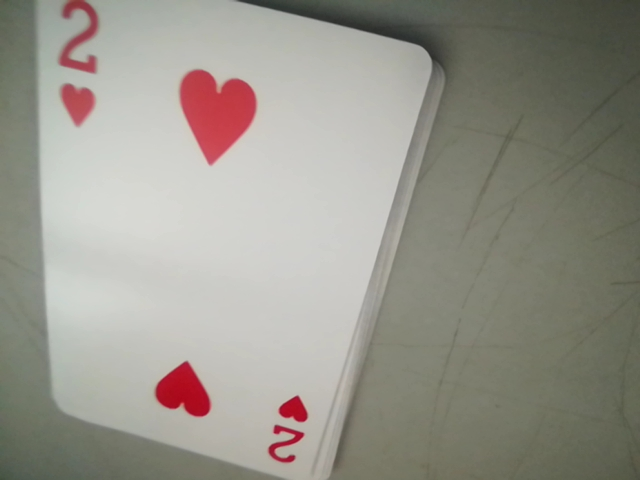hx 2: (30, 0, 108, 129), (261, 400, 316, 475)
